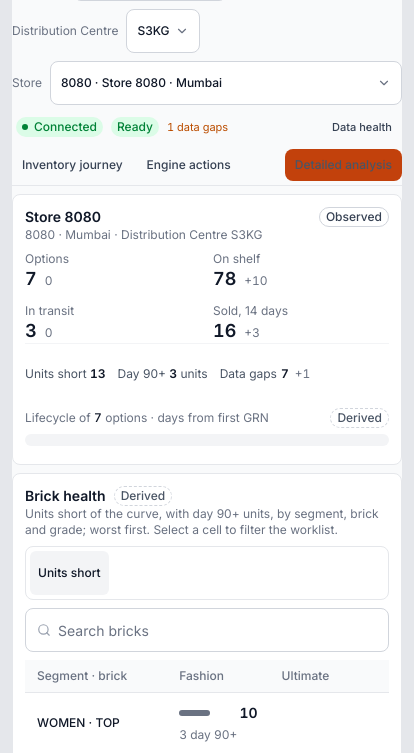
Store workspace (SAPR-10) in Scope 2a › filters the worklist by a matrix cell
What coordinates should you click on to do the following:
click the text with test id "matrix-cell-WOMEN-TOP-Fashion"
I would click on:
 (249, 712)
Its box is [240, 704, 258, 721].
(page scrolled)
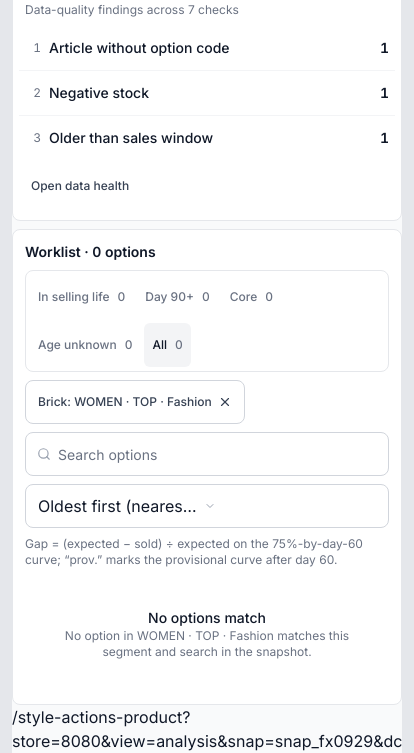
Now the button with test id "worklist-cell-filter" reads "Brick: WOMEN · TOP · Fashion"
What coordinates should you click on to do the following:
click the button with test id "worklist-cell-filter"
I would click on:
 (135, 402)
Its box is [25, 380, 245, 424].
(page scrolled)
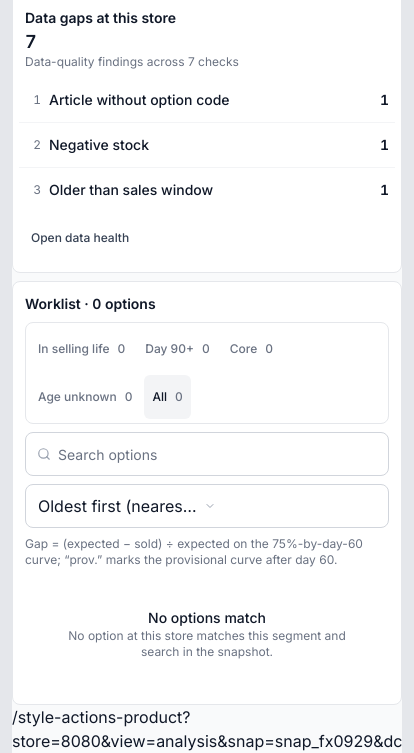
Now the button with test id "worklist-cell-filter" is gone
